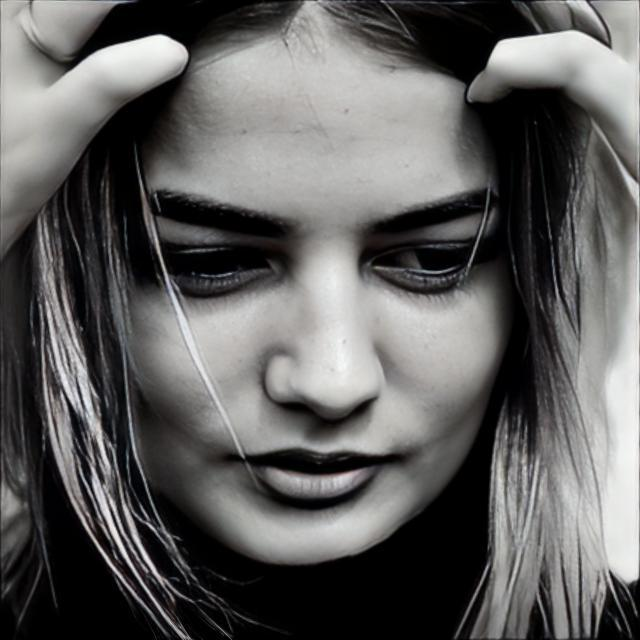neutral: (109, 0, 512, 566)
